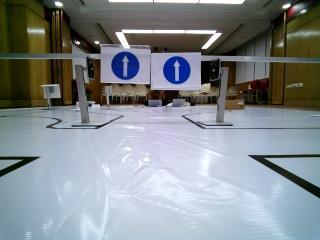straight: (100, 44, 151, 84), (151, 52, 201, 89)
